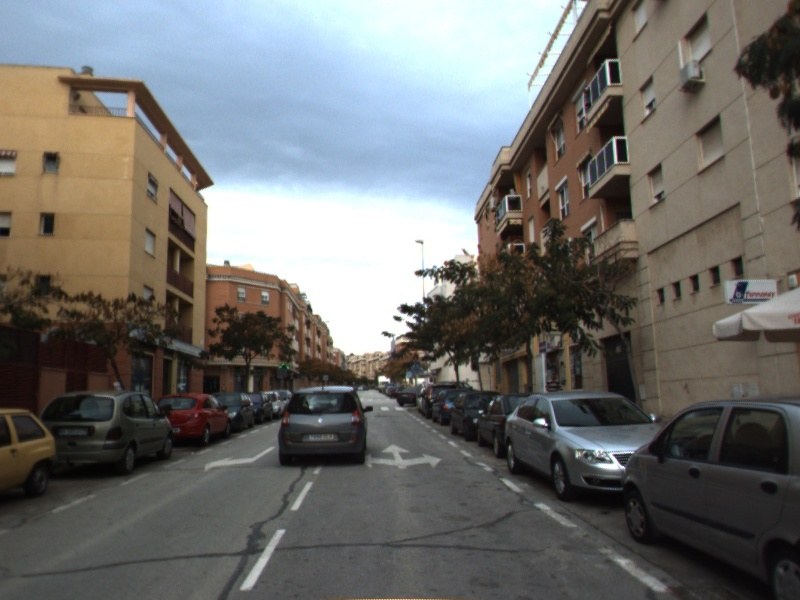STRAIGHT_LEFT_RIGHT: (364, 442, 444, 471)
